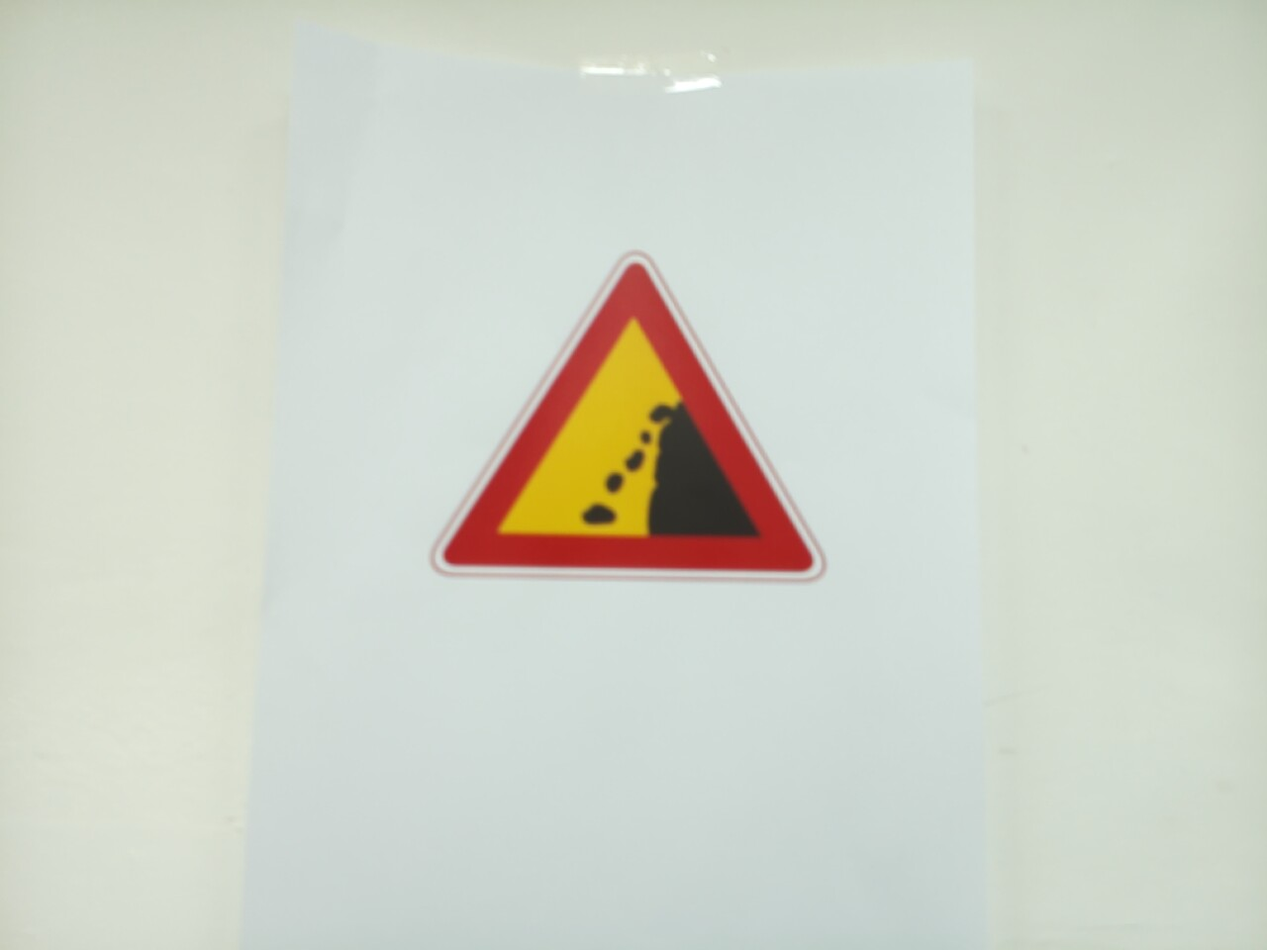falling_rocks: (433, 253, 824, 582)
